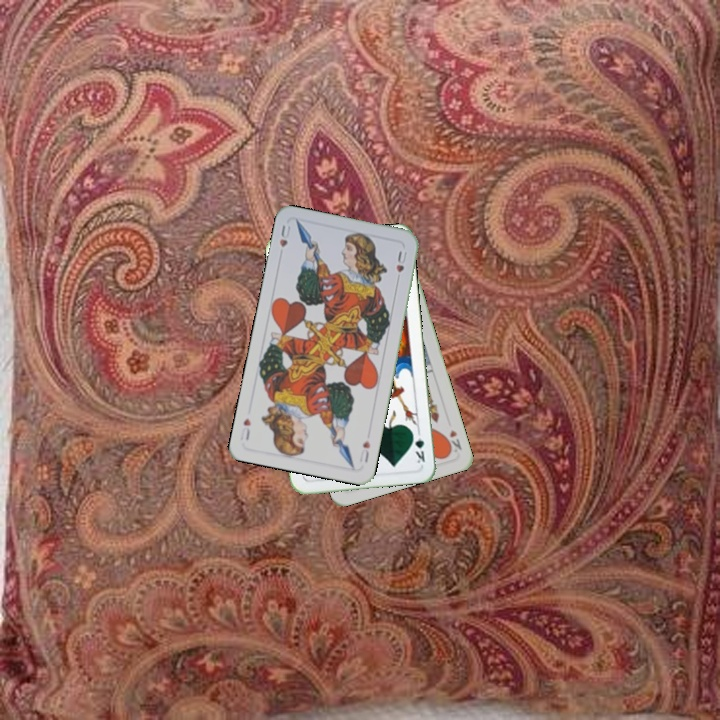GK: (408, 426, 427, 466)
HK: (441, 425, 464, 455)
HU: (355, 437, 373, 466), (275, 221, 293, 249)
